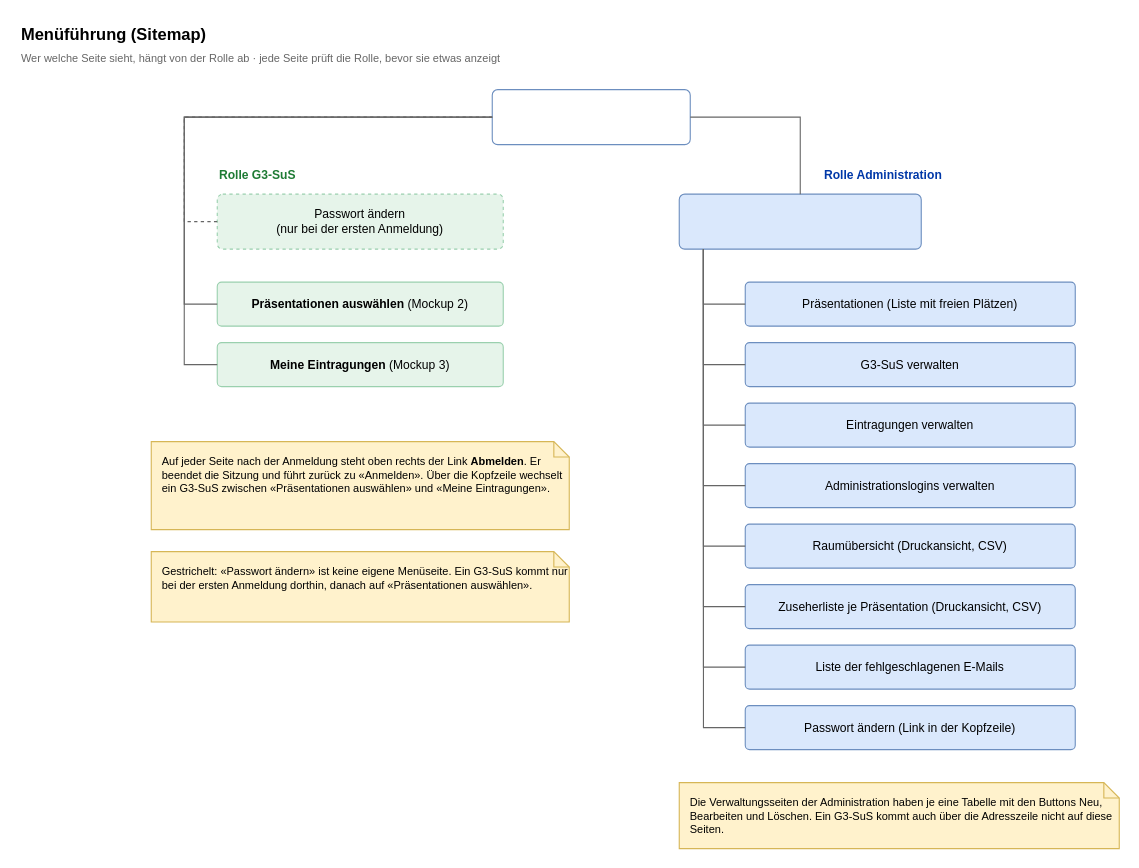
The diagram is 1139 pixels wide and 868 high, and some of its shapes have lost their labels. Here are the shapes that lost their labels. From the top down, the centre of each, then its label:
At [590,117]: "Anmelden (Mockup 1)".
At [799,221]: "Übersicht Administration (Mockup 4)".
